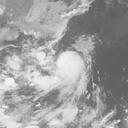cyclone: (56, 51, 85, 79)
